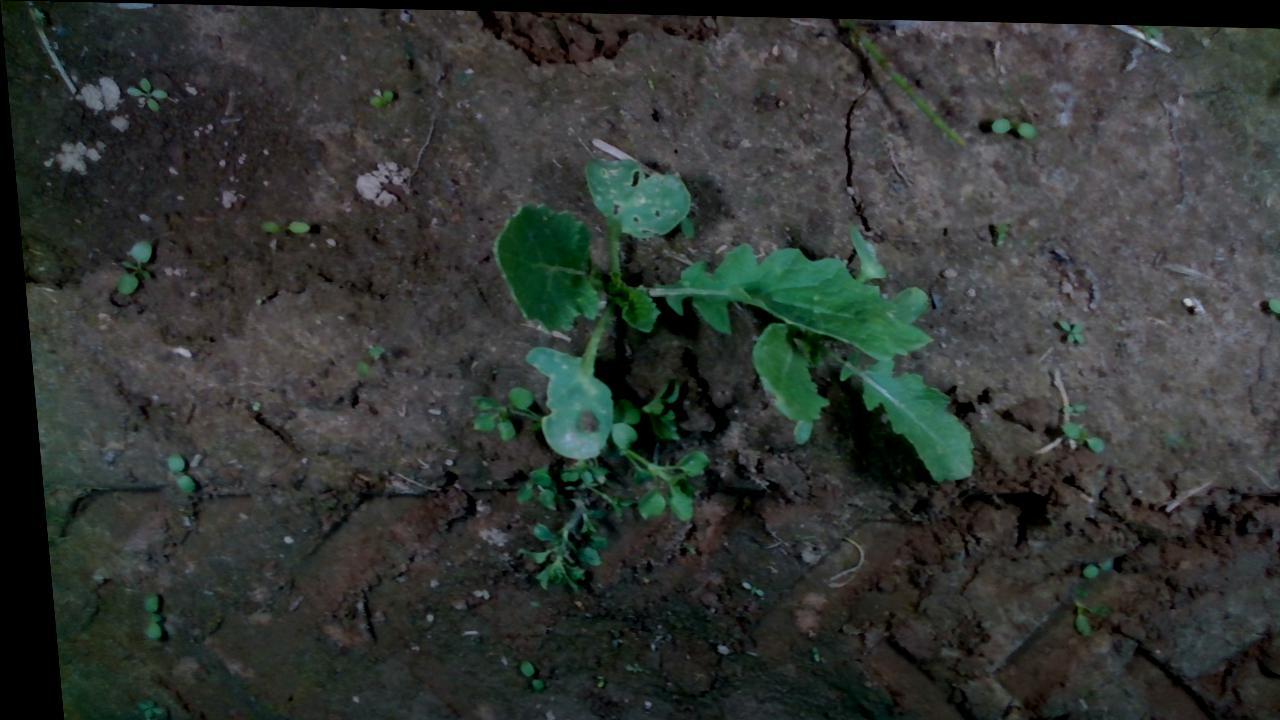weed: (103, 237, 151, 295), (120, 73, 168, 110), (1052, 413, 1099, 449), (154, 449, 187, 495), (128, 586, 152, 641), (986, 109, 1035, 135), (1068, 548, 1106, 575), (251, 216, 307, 233), (504, 656, 531, 690), (1050, 312, 1082, 340), (363, 83, 394, 108), (1258, 290, 1279, 316), (1050, 396, 1079, 408)
